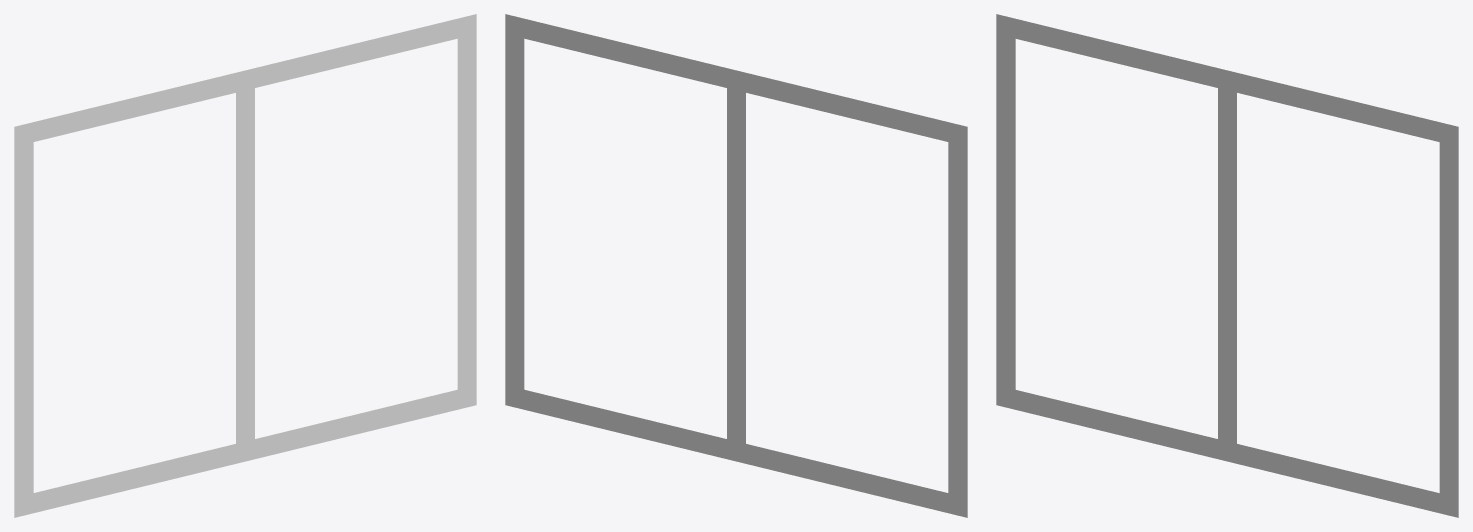
The model's file is TangledMTA_B.fbx.
3 renders of one model, left to right at view 1: azimuth 30°, elevation 25°; view 2: azimuth 150°, elevation 25°; view 3: azimuth 330°, elevation 25°, orthographic.
Visible parts, largest first — view 1: pb-MergedObject-5359116_(1)-detach_(1); view 2: pb-MergedObject-5359116_(1)-detach_(1); view 3: pb-MergedObject-5359116_(1)-detach_(1).
Part boxes in pixels (bbox=[...]): pb-MergedObject-5359116_(1)-detach_(1): bbox=[14, 14, 476, 517]; pb-MergedObject-5359116_(1)-detach_(1): bbox=[505, 14, 967, 517]; pb-MergedObject-5359116_(1)-detach_(1): bbox=[996, 14, 1458, 517].
Size of the model in its own units: 2087 by 1687 by 0.00339.
